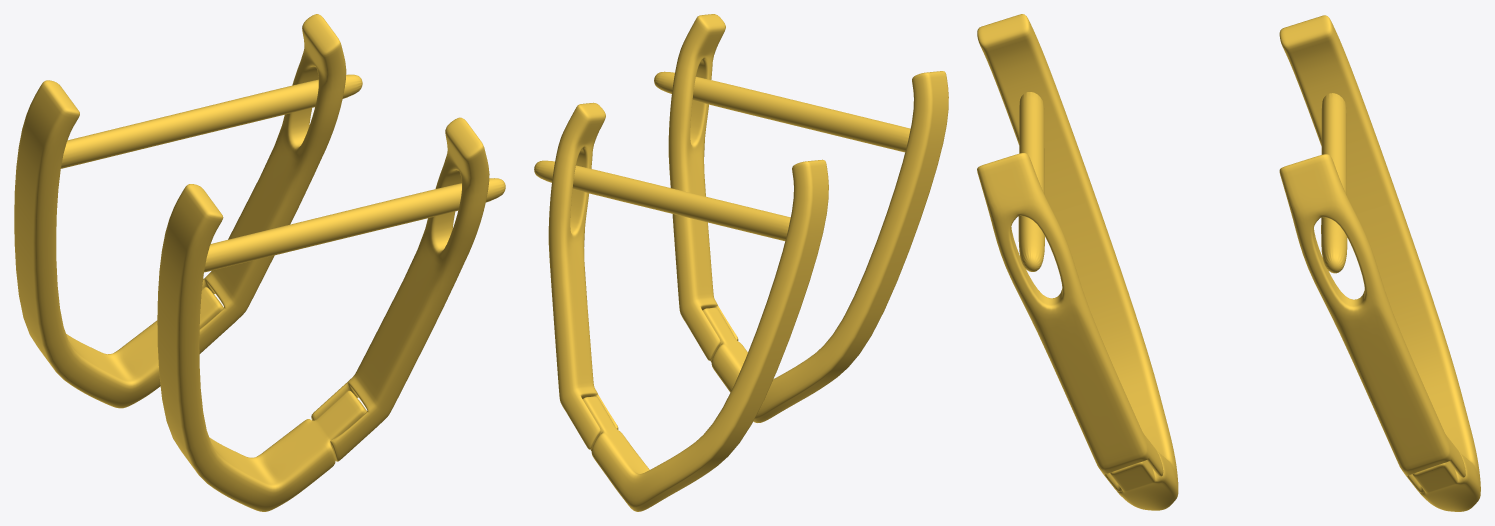
The model's file is arete2.glb.
3 renders of one model, left to right at view 1: azimuth 30°, elevation 25°; view 2: azimuth 150°, elevation 25°; view 3: azimuth 270°, elevation 25°, orthographic. The views are drawn at different scales.
Visible parts, largest first — view 1: Object_2; view 2: Object_2; view 3: Object_2.
Boxes of the visible parts, x1,y1,x2,y2 form: Object_2: [14, 14, 505, 511]; Object_2: [534, 14, 948, 511]; Object_2: [977, 14, 1480, 511].
Size of the model in its own units: 0.1018 by 0.1177 by 0.1257.
